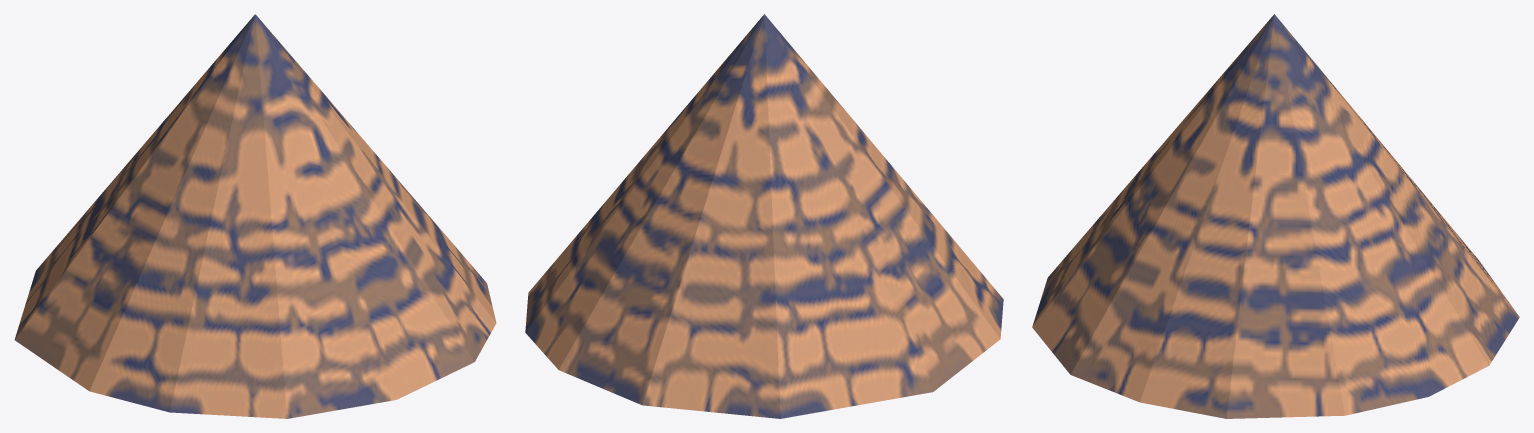
File: Dach_2.fbx
The picture shows the model from 3 angles, left to right: view 1: azimuth 30°, elevation 25°; view 2: azimuth 150°, elevation 25°; view 3: azimuth 270°, elevation 25°; orthographic projection.
Visible parts, largest first — view 1: Wieża L 2.001; view 2: Wieża L 2.001; view 3: Wieża L 2.001.
Part boxes in pixels (bbox=[...]): Wieża L 2.001: bbox=[14, 14, 496, 418]; Wieża L 2.001: bbox=[525, 14, 1003, 418]; Wieża L 2.001: bbox=[1032, 14, 1519, 418].
Size of the model in its own units: 18034 by 12627 by 18401.
